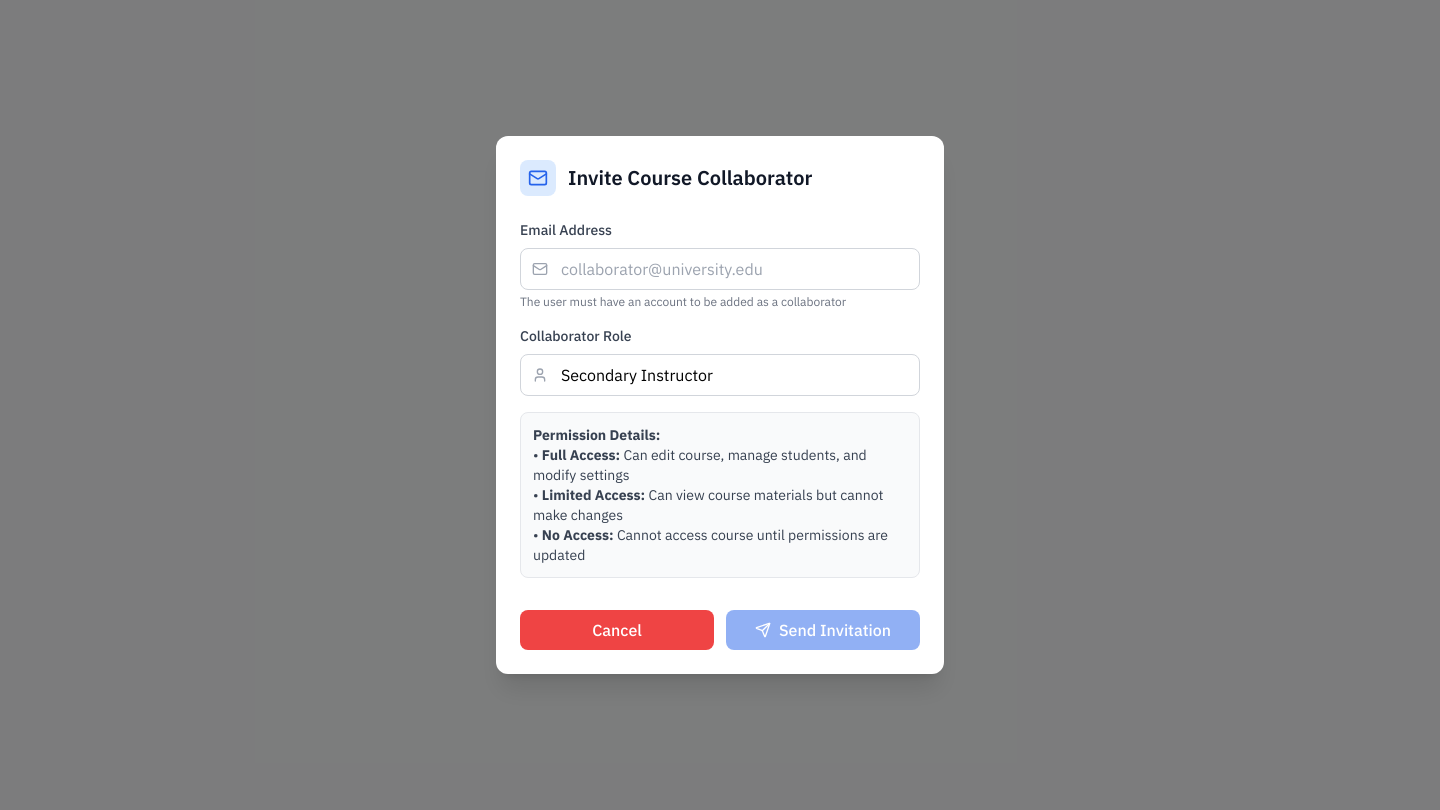
Test: InviteInstructorModal › shows custom error message from backend response
Type "test@example.com" into the field labelled "Email Address" at (720, 269), box [520, 248, 920, 290]
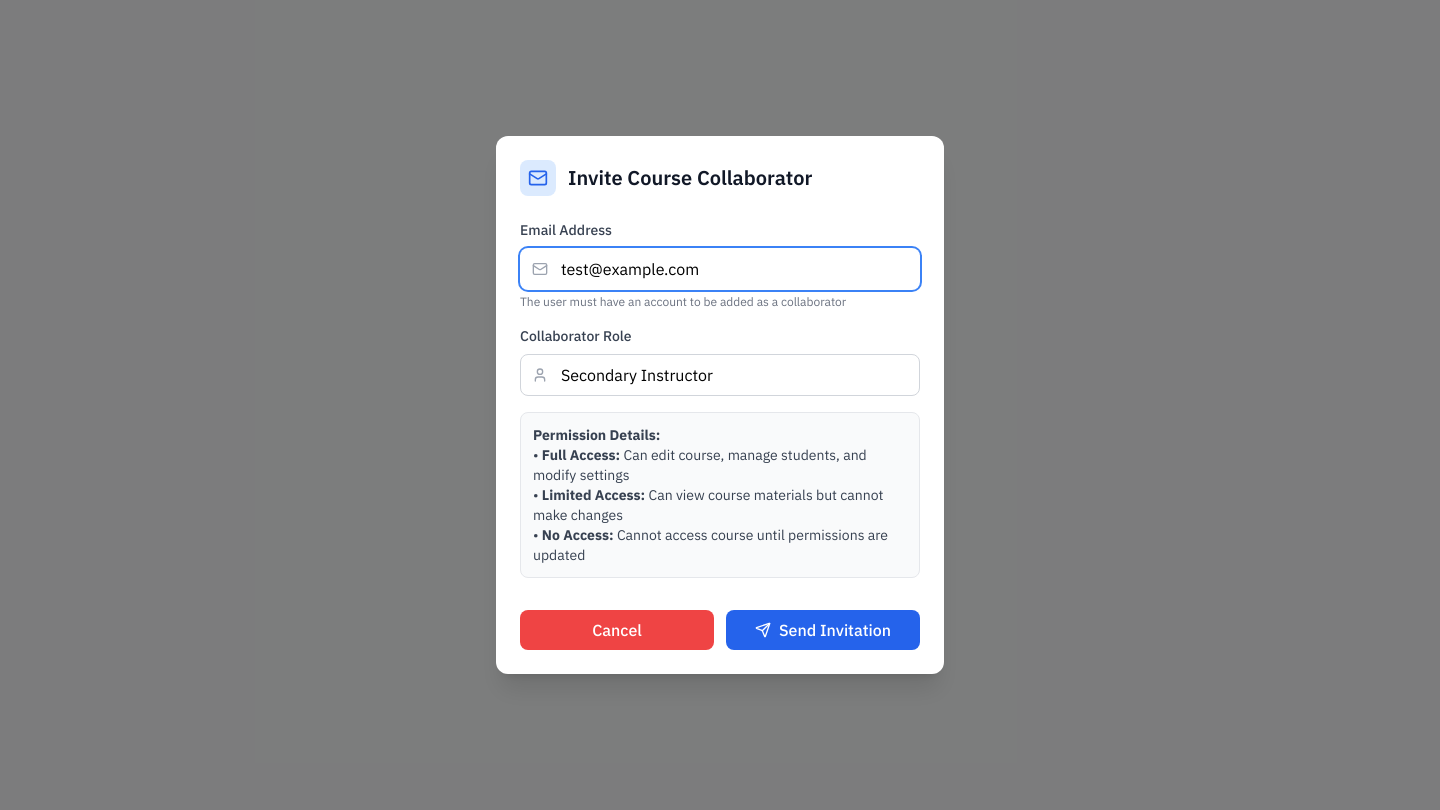
Click the button "Send Invitation" at (823, 630), box [726, 610, 920, 650]
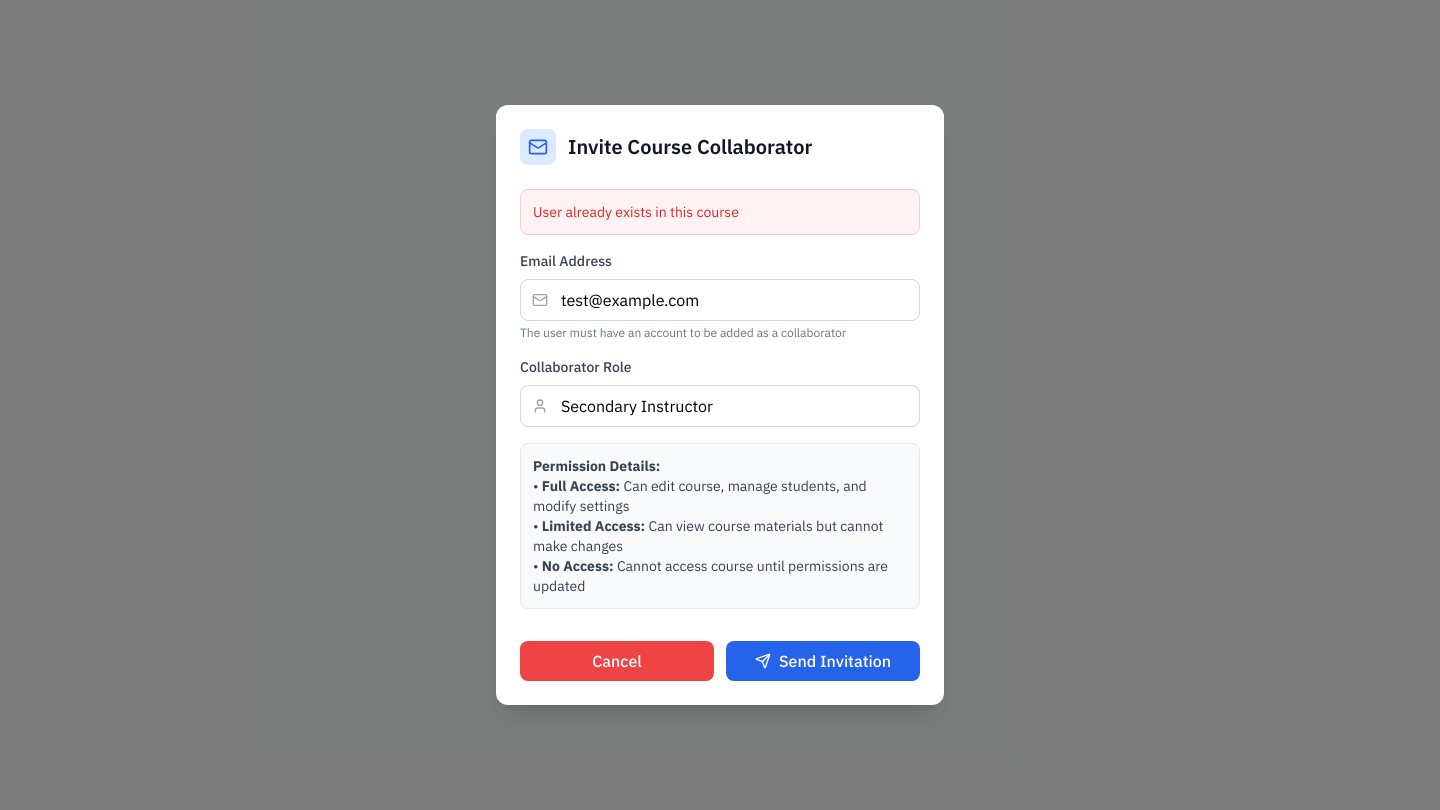
Expected: the text "User already exists in this course" is shown, [533, 203, 739, 221]
